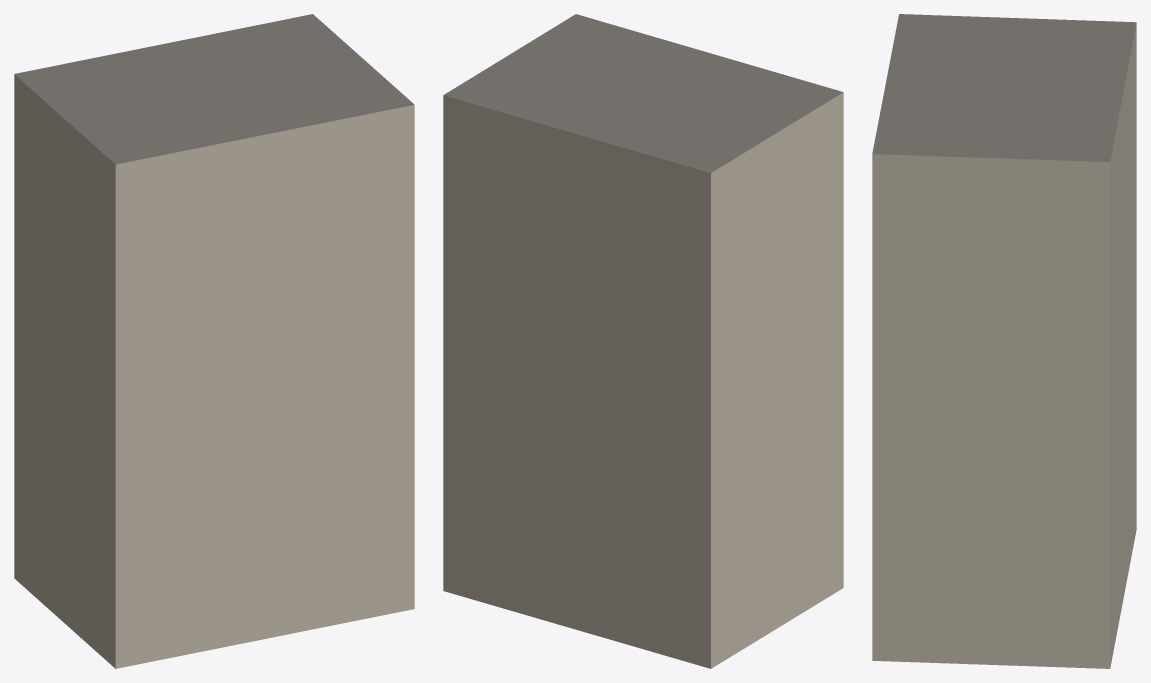
The picture shows the model from 3 angles, left to right: view 1: azimuth 30°, elevation 25°; view 2: azimuth 150°, elevation 25°; view 3: azimuth 270°, elevation 25°; orthographic projection. The views are drawn at different scales.
Visible parts, largest first — view 1: HP-w858824326; view 2: HP-w858824326; view 3: HP-w858824326.
Boxes of the visible parts, x1,y1,x2,y2 form: HP-w858824326: (14, 14, 414, 668); HP-w858824326: (443, 14, 843, 668); HP-w858824326: (872, 14, 1136, 668).
Bounding box in the file's own units: 11.29 × 18 × 8.52.
